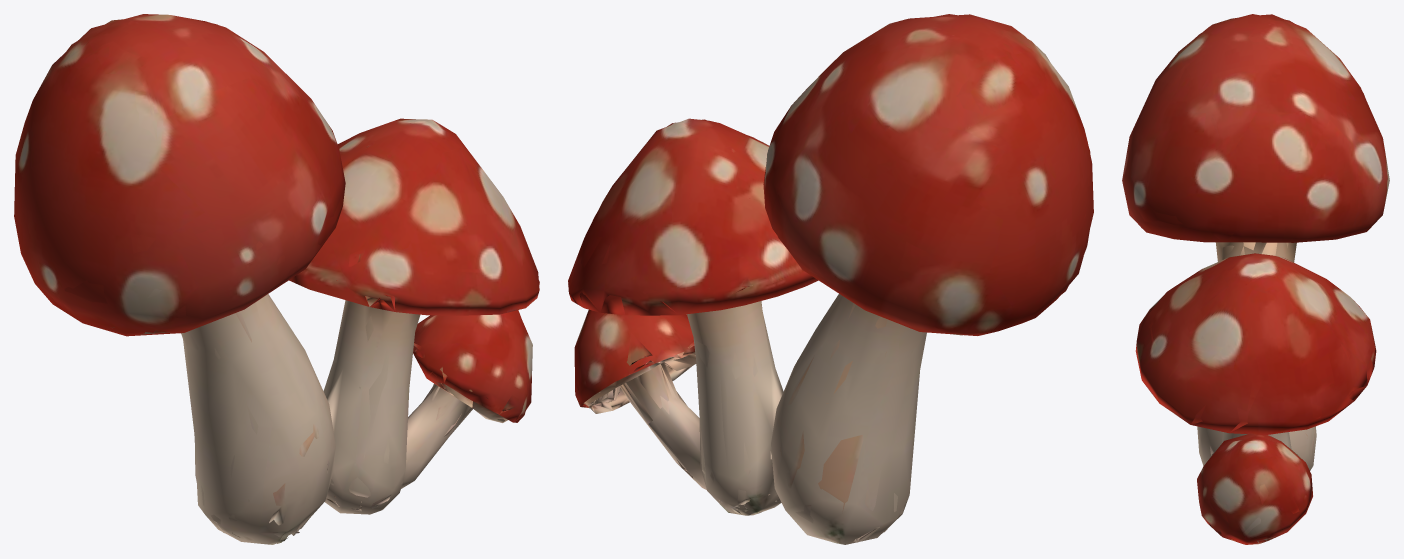
File: mushroom-cluster_final.glb
The picture shows the model from 3 angles, left to right: view 1: azimuth 30°, elevation 25°; view 2: azimuth 150°, elevation 25°; view 3: azimuth 270°, elevation 25°; orthographic projection. The views are drawn at different scales.
Parts seen in each view (by area): view 1: SM_MushroomCluster; view 2: SM_MushroomCluster; view 3: SM_MushroomCluster.
Boxes of the visible parts, x1,y1,x2,y2 form: SM_MushroomCluster: (14,14,539,544); SM_MushroomCluster: (568,14,1093,544); SM_MushroomCluster: (1122,14,1389,544).
Bounding box in the file's own units: 0.3375 × 0.3495 × 0.1968.
1 material, 1 textured.
